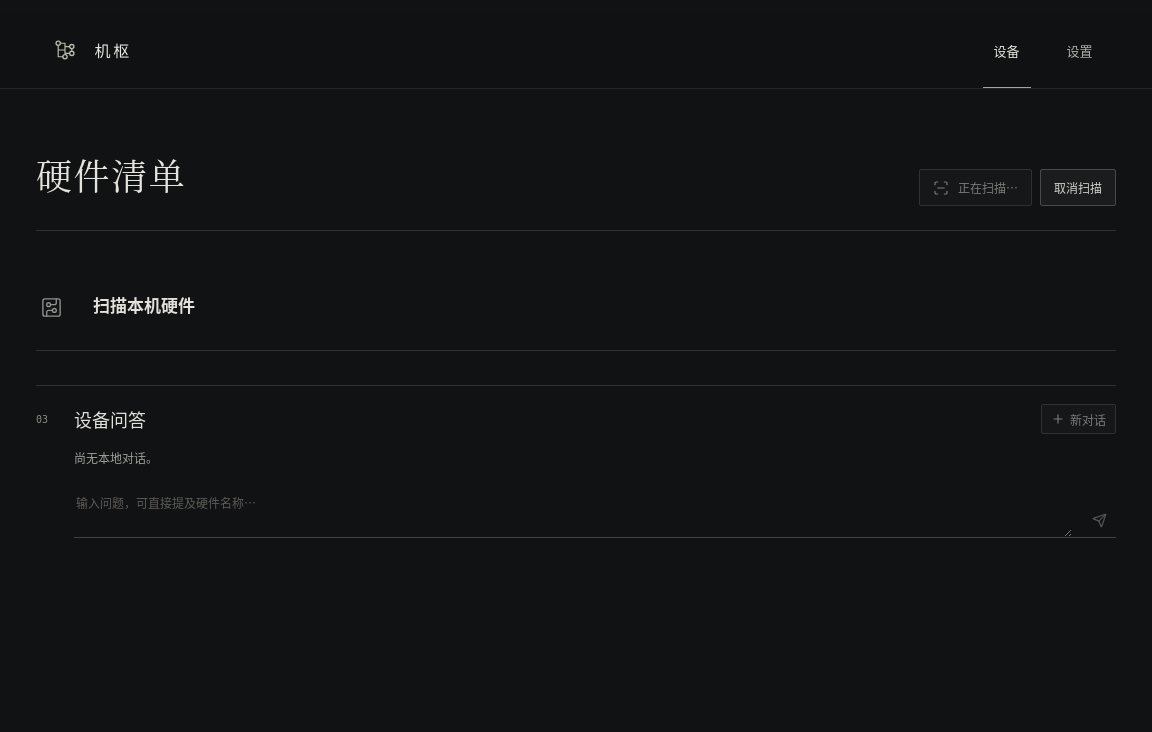
Test: CoreScope application shell › treats a late scan cancellation as a completed scan
Click the button "取消扫描" at (1078, 188), box top-left (1040, 169), bottom-right (1116, 206)
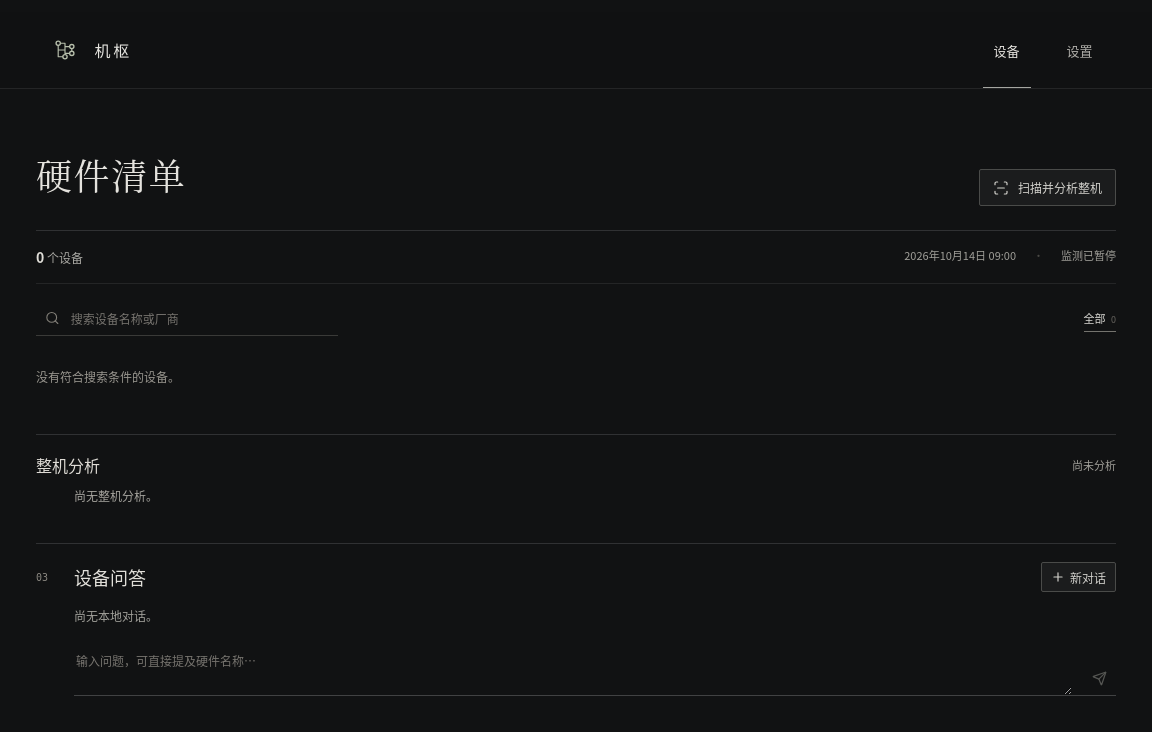
Expected: the text "0 个设备" is shown, top-left (36, 247), bottom-right (83, 267)
